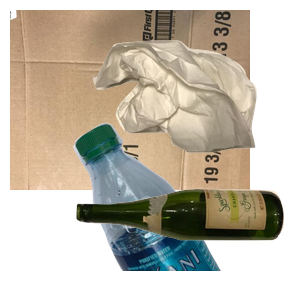cardboard: (10, 10, 250, 190)
glass: (74, 186, 300, 300)
plastic: (71, 120, 300, 300)
trash: (90, 38, 300, 183)
